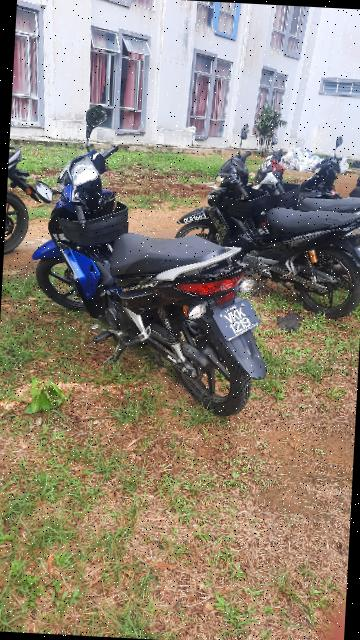License_Plate: (211, 294, 276, 345), (179, 207, 212, 228)
motorcycle: (25, 102, 290, 422), (171, 117, 360, 317)
